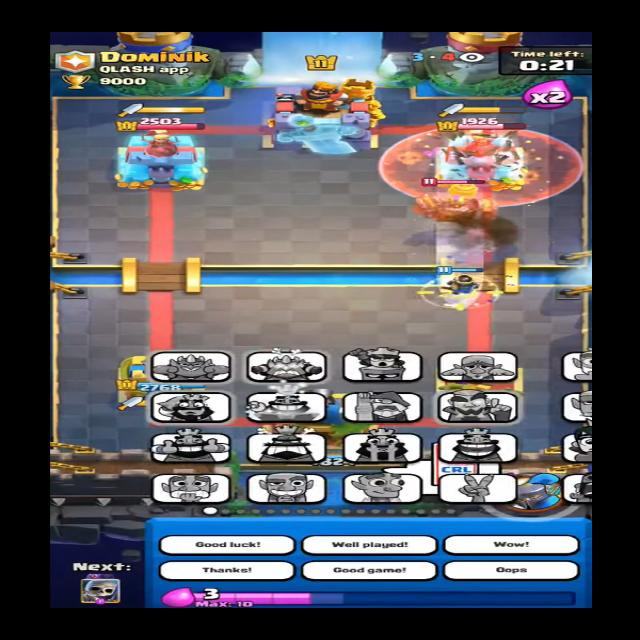Goblinmachine: (410, 176, 498, 230)
